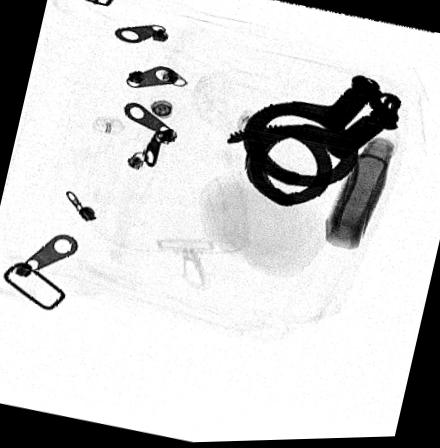HandCuffs: (220, 74, 403, 207)
